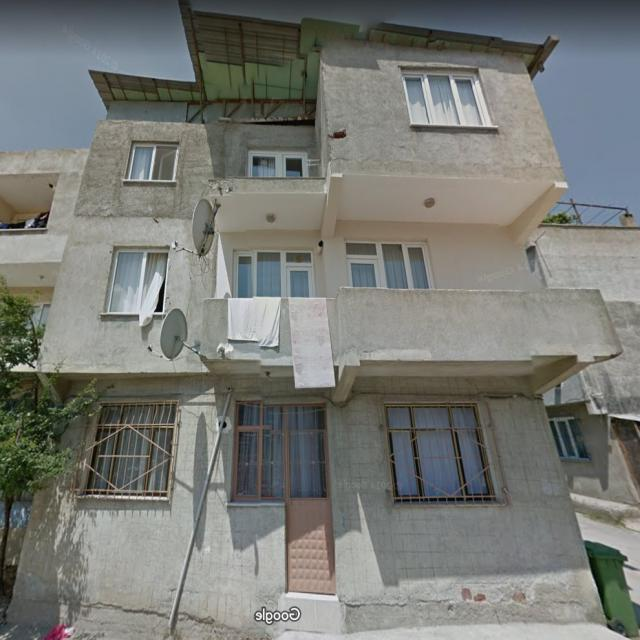Building: (9, 0, 621, 639)
